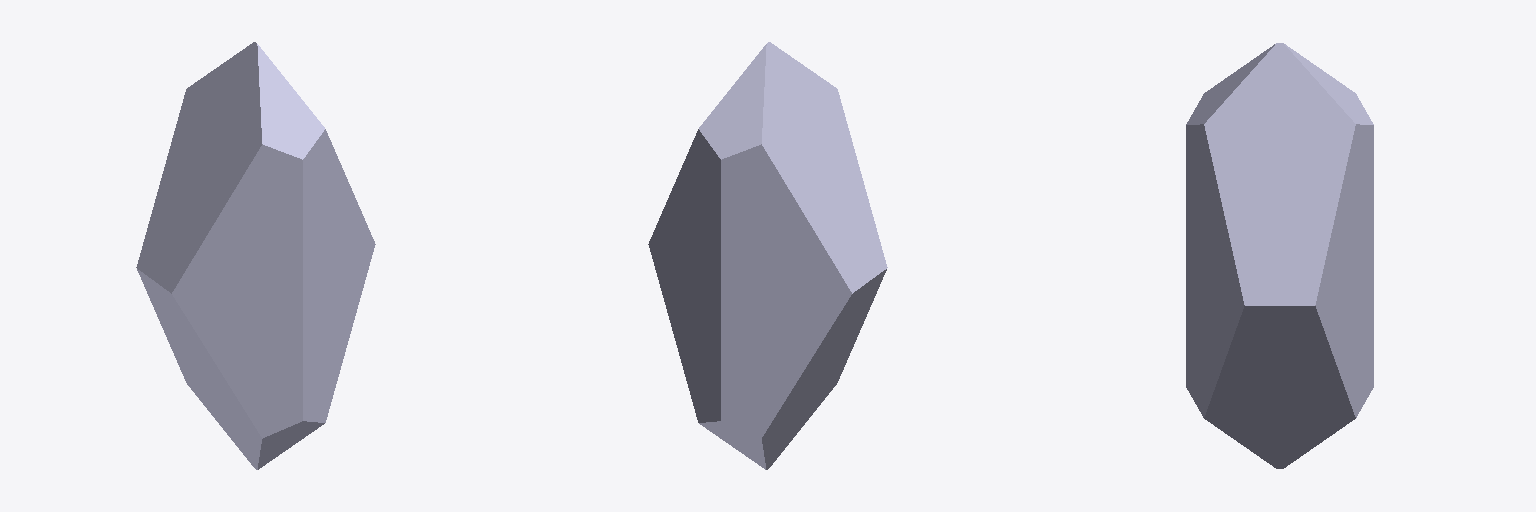
File: celestine.obj
The picture shows the model from 3 angles: view 1: azimuth 30°, elevation 25°; view 2: azimuth 150°, elevation 25°; view 3: azimuth 270°, elevation 25°; orthographic projection.
Bounding box in the file's own units: 1.12 × 2.24 × 0.8944.